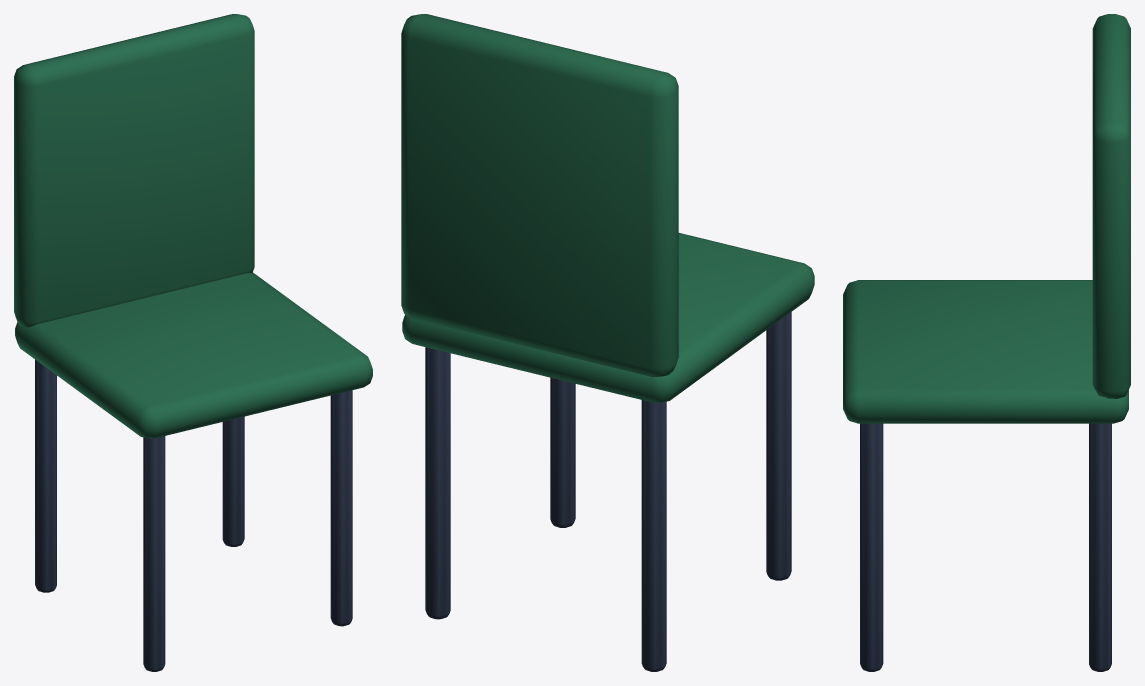
The model's file is f_chair_green.glb.
3 renders of one model, left to right at view 1: azimuth 30°, elevation 25°; view 2: azimuth 150°, elevation 25°; view 3: azimuth 270°, elevation 25°, orthographic. The views are drawn at different scales.
Parts seen in each view (by area): view 1: f_chair_green; view 2: f_chair_green; view 3: f_chair_green.
Part boxes in pixels (box(x1,y1,x2,y2)): f_chair_green: box(14, 14, 372, 671); f_chair_green: box(401, 14, 814, 671); f_chair_green: box(843, 14, 1130, 671).
Bounding box in the file's own units: 0.75 × 1.6 × 0.755.
